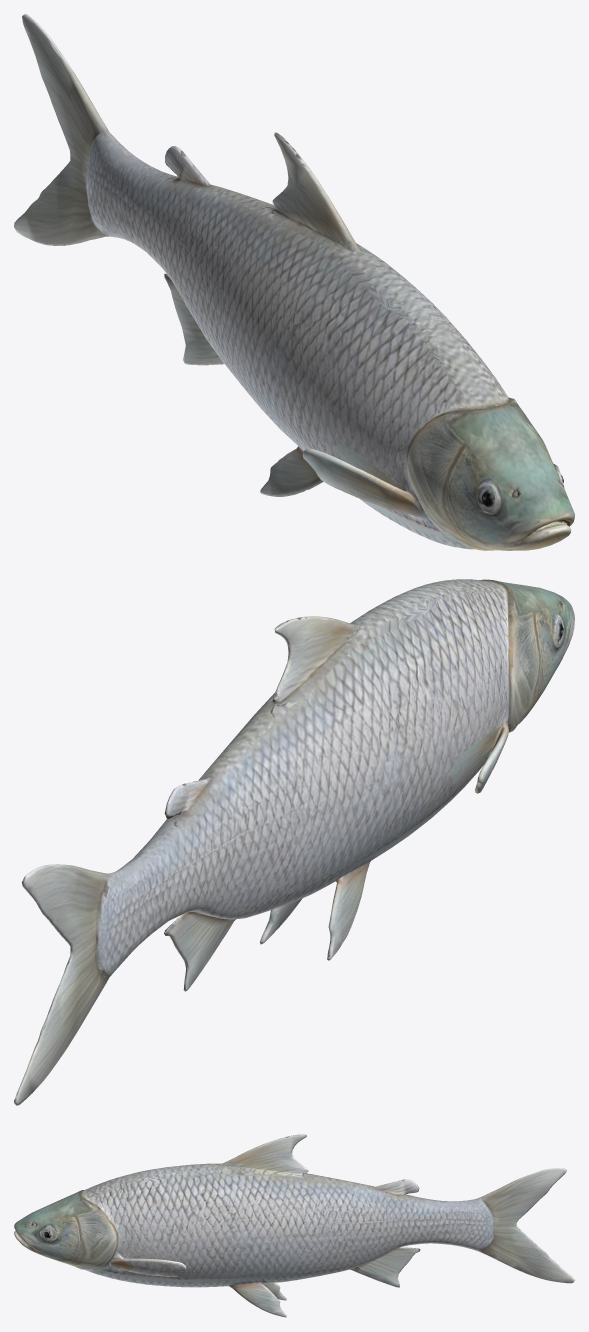
File: silver.glb
The picture shows the model from 3 angles, top to bottom: view 1: azimuth 30°, elevation 25°; view 2: azimuth 150°, elevation 25°; view 3: azimuth 270°, elevation 25°; orthographic projection. The views are drawn at different scales.
Visible parts, largest first — view 1: silver; view 2: silver; view 3: silver.
Part boxes in pixels (x1,y1,x2,y2): silver: [14, 14, 574, 550]; silver: [14, 579, 574, 1105]; silver: [14, 1134, 574, 1317].
Size of the model in its own units: 0.1921 by 0.343 by 1.
Materials: 1 (1 with a texture image).
